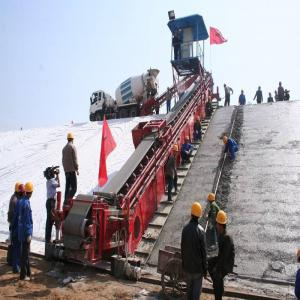yellow: (216, 210, 228, 236), (191, 204, 203, 225), (25, 182, 35, 201), (67, 132, 75, 145), (209, 193, 216, 207), (173, 145, 180, 158), (224, 136, 230, 147), (185, 136, 190, 145), (197, 117, 202, 126), (208, 96, 212, 104)
